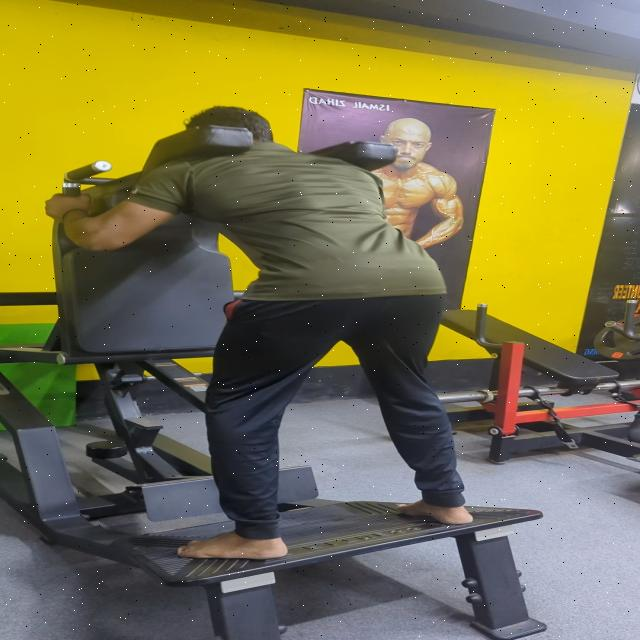Normal_SquatsWithBarbell: (0, 96, 579, 564)
